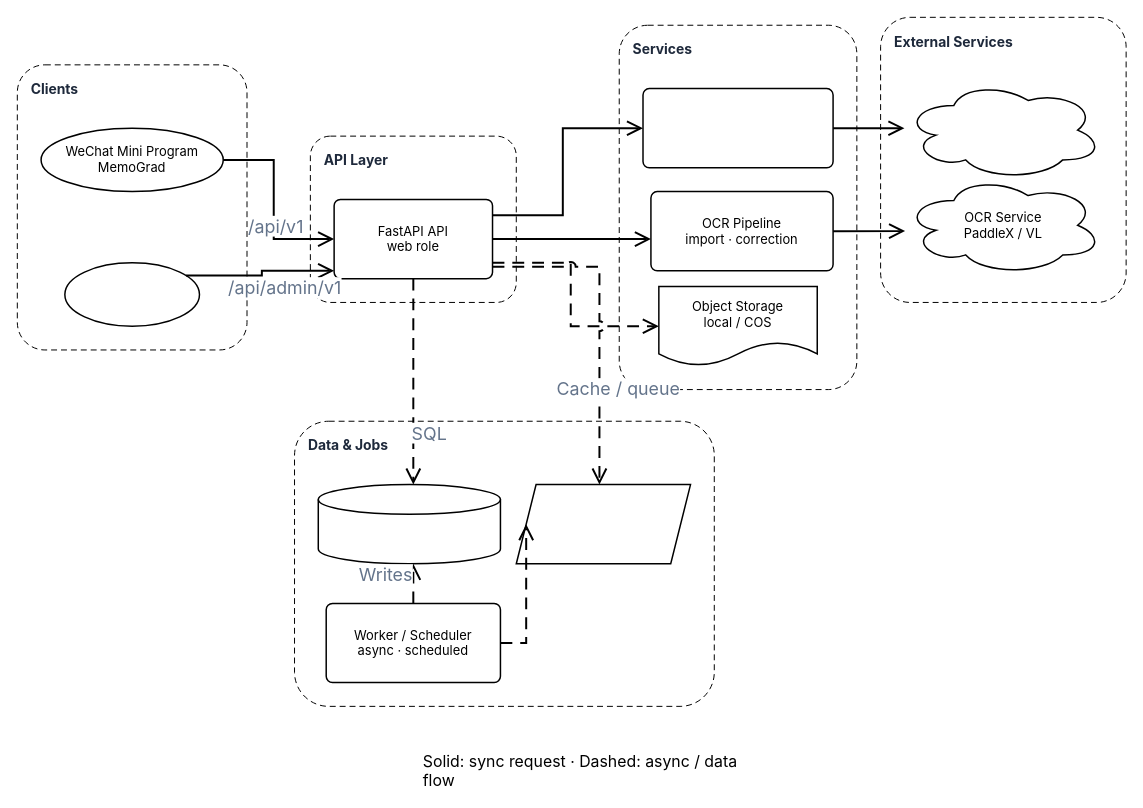
Some shapes in this 1143 by 808 pixel diagram are drawn without their labels. Here are the shapes that lost their labels. From the top down, the centre of each, then its label:
At (x=737, y=127): "AI Gateway routing · rate limits".
At (x=1003, y=129): "OpenAI-compatible models".
At (x=132, y=294): "Admin Console Next.js".
At (x=409, y=523): "PostgreSQL 15 questions · data".
At (x=603, y=523): "Redis 7 cache · task queue".
